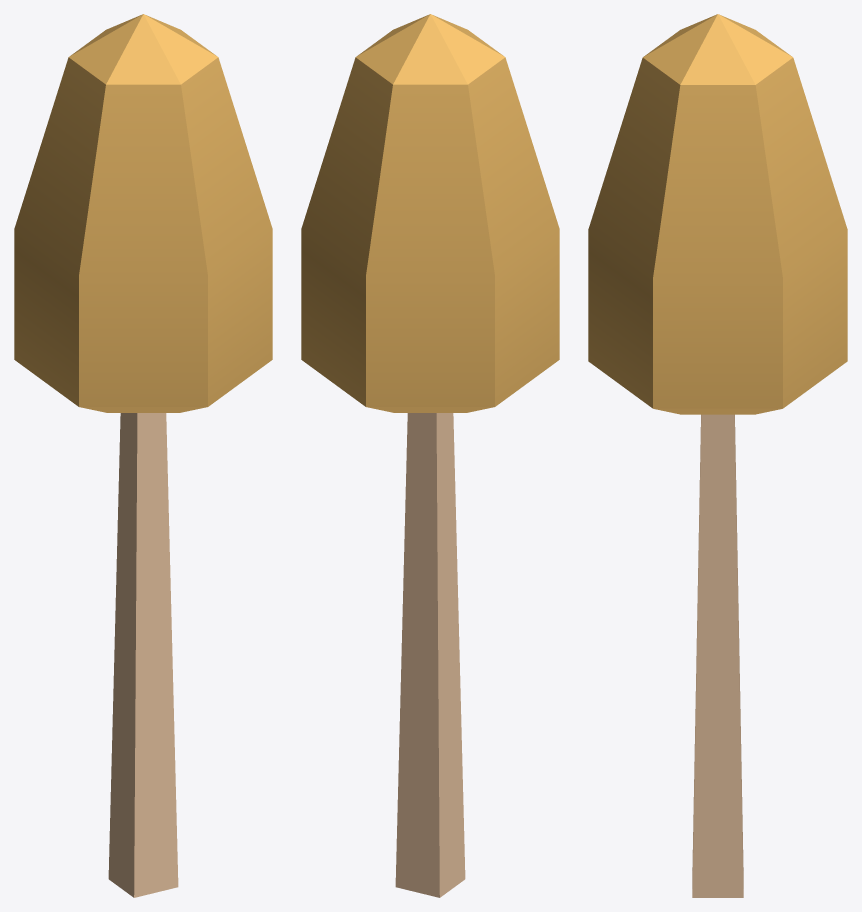
The model's file is tree_simple_fall.gltf.
The picture shows the model from 3 angles, left to right: view 1: azimuth 30°, elevation 25°; view 2: azimuth 150°, elevation 25°; view 3: azimuth 270°, elevation 25°; orthographic projection.
Visible parts, largest first — view 1: tree_simple_fall; view 2: tree_simple_fall; view 3: tree_simple_fall.
Boxes of the visible parts, bbox=[...] form: tree_simple_fall: bbox=[14, 14, 272, 897]; tree_simple_fall: bbox=[301, 14, 559, 897]; tree_simple_fall: bbox=[588, 14, 847, 897].
Bounding box in the file's own units: 0.3546 × 1.52 × 0.4095.
